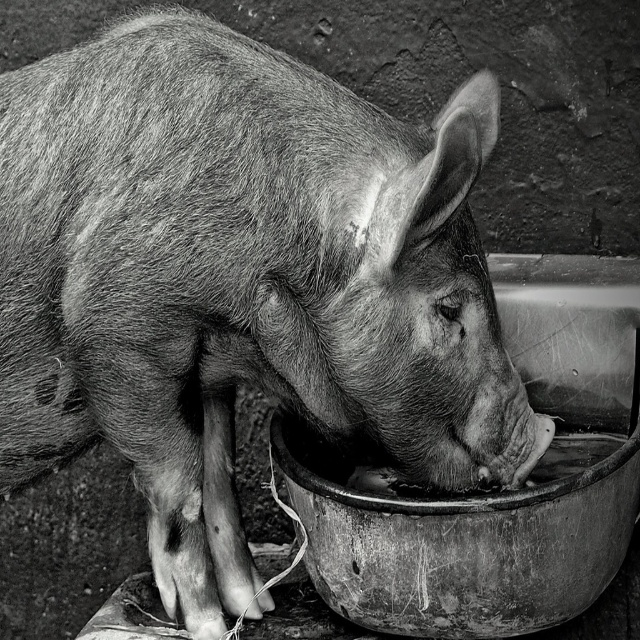Pig: (0, 2, 555, 639)
